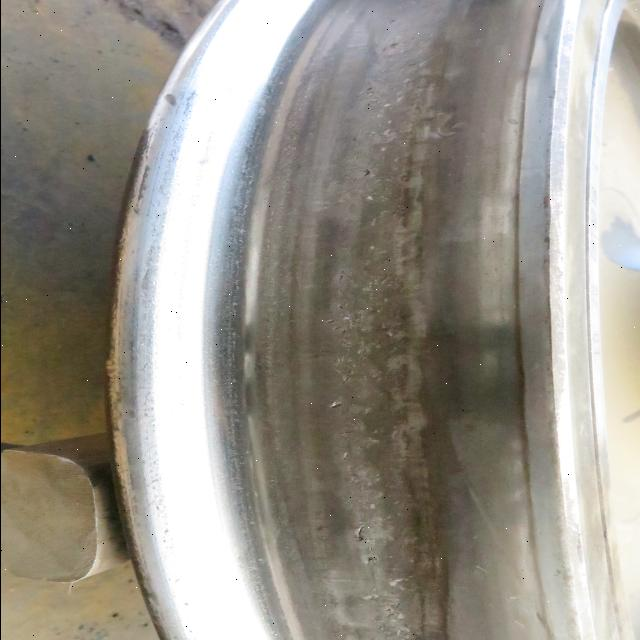boli: (342, 514, 386, 544), (322, 390, 348, 412)
